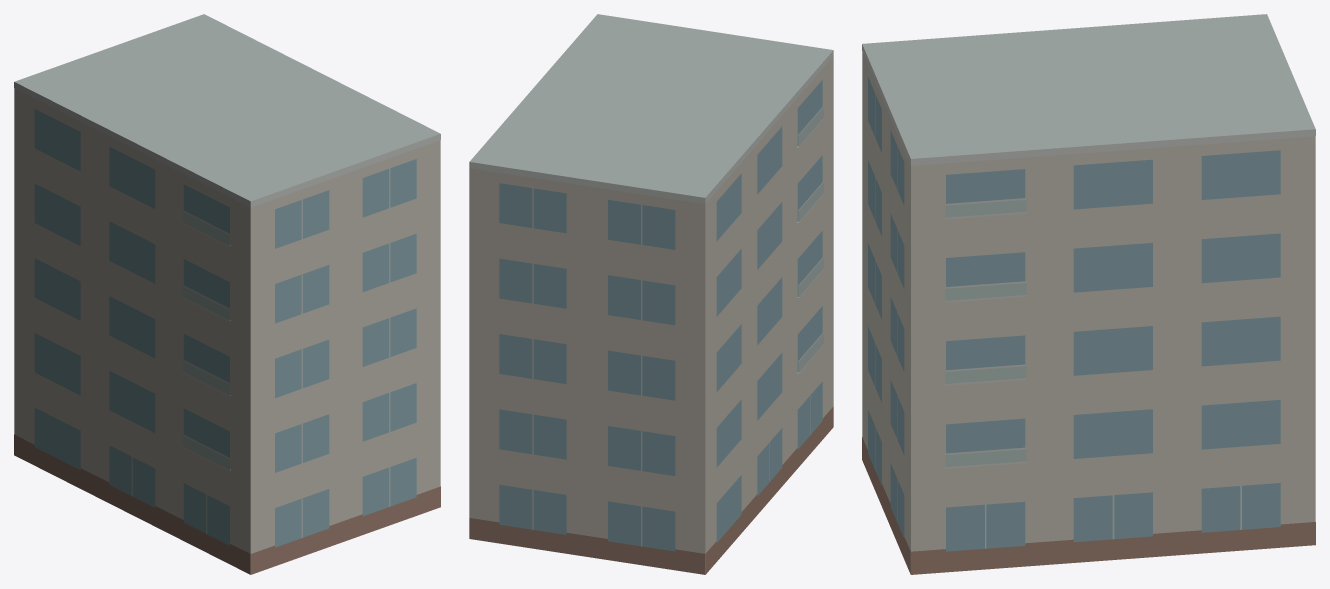
File: survey-upis-32892269.glb
3 renders of one model, left to right at view 1: azimuth 30°, elevation 25°; view 2: azimuth 150°, elevation 25°; view 3: azimuth 270°, elevation 25°, orthographic. The views are drawn at different scales.
Visible parts, largest first — view 1: survey-upis-32892269.tmp; view 2: survey-upis-32892269.tmp; view 3: survey-upis-32892269.tmp.
Boxes of the visible parts, box(x1,y1,x2,y2) form: survey-upis-32892269.tmp: box(14, 14, 440, 574); survey-upis-32892269.tmp: box(469, 14, 833, 574); survey-upis-32892269.tmp: box(862, 14, 1315, 574).
Bounding box in the file's own units: 10.92 × 14.6 × 14.44.
